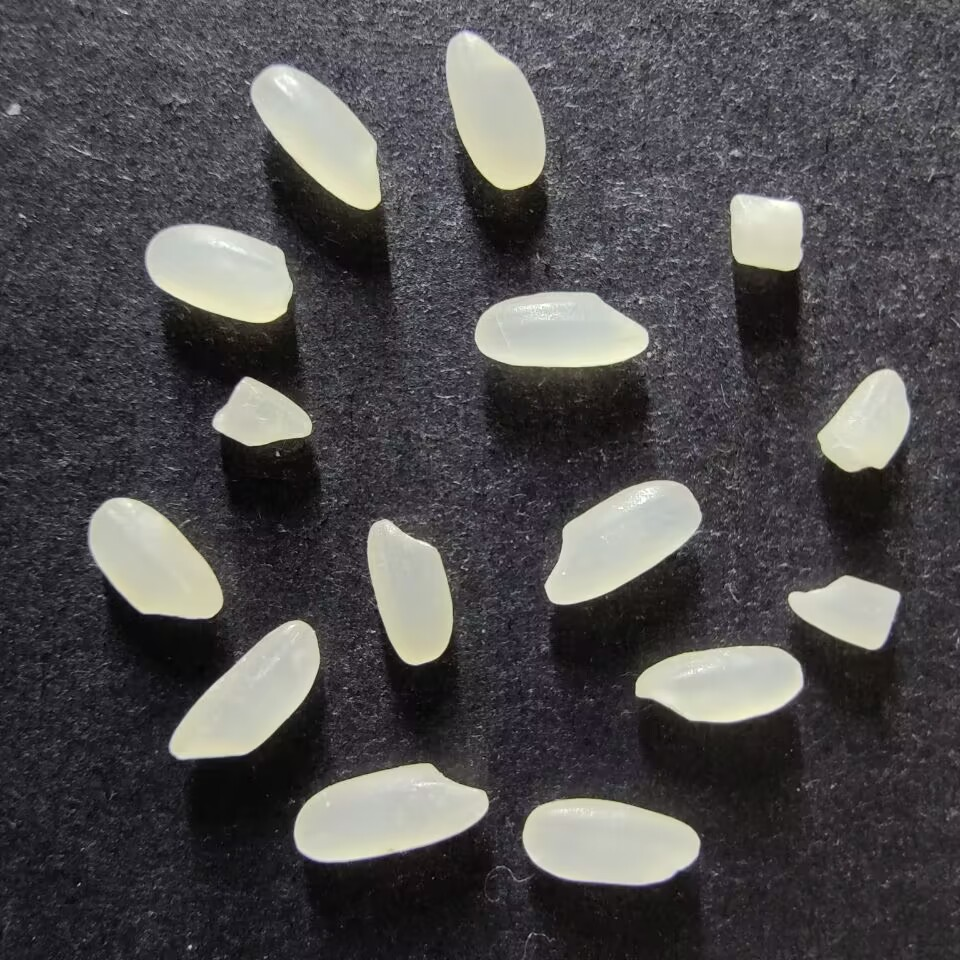broken: (815, 368, 911, 473), (786, 575, 901, 651), (211, 376, 313, 448), (729, 192, 805, 272)
rice: (168, 619, 319, 760), (543, 478, 701, 605), (292, 761, 489, 862), (249, 64, 382, 210), (87, 497, 223, 620), (444, 31, 546, 191), (521, 797, 699, 887), (144, 223, 292, 324), (473, 290, 649, 369), (633, 645, 803, 724), (365, 518, 453, 666)
